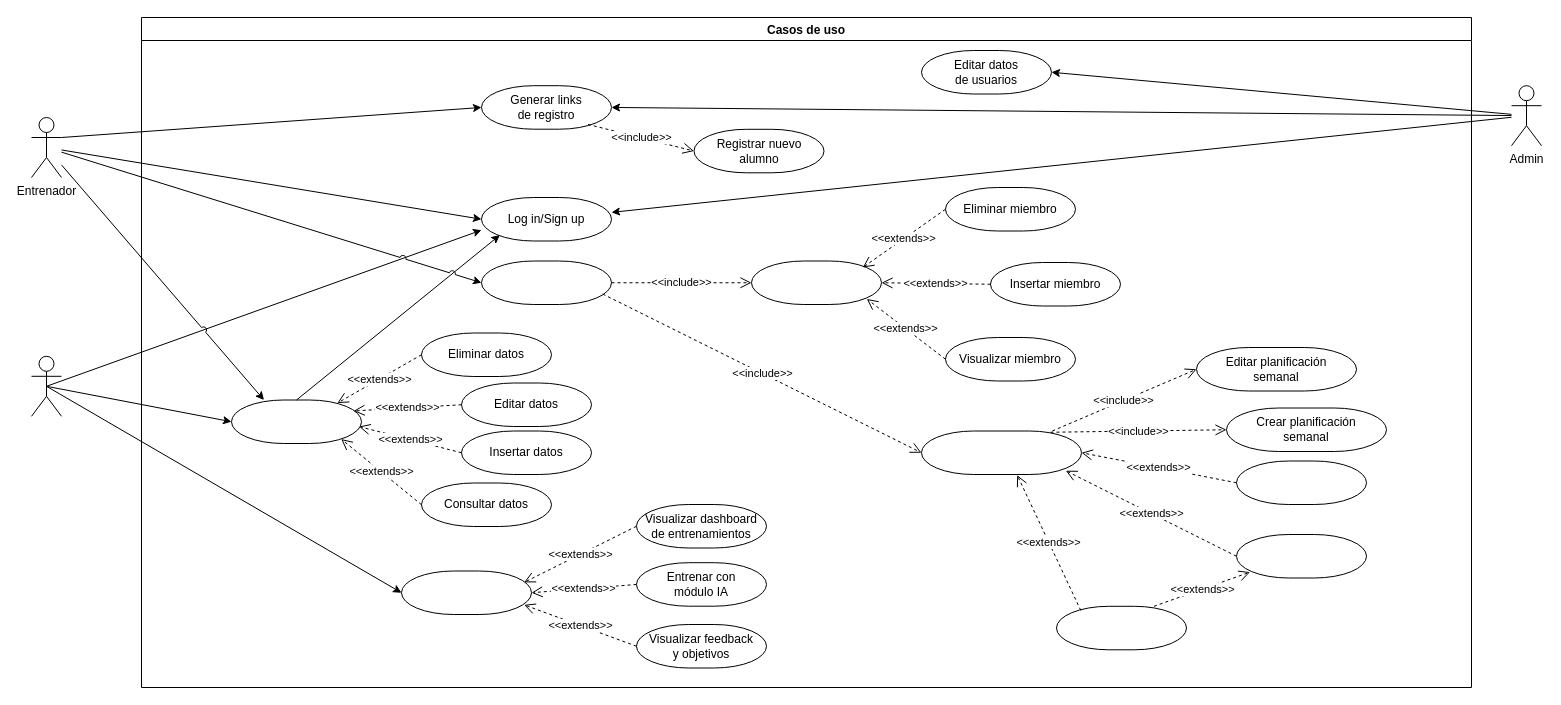
Image size: 1561x705. Some labels were removed from this diagram. Here are the shapes that lost their labels. From the top down, the box of each, then its label:
(480, 260, 612, 304): Crear grupo de entrenamiento
(750, 260, 882, 304): Gestionar miembros de grupos
(30, 355, 62, 416): Esgrimista
(230, 399, 362, 444): Gestionar datos de perfil
(920, 430, 1082, 474): Gestionar ciclos y planes de entrenamiento
(1236, 460, 1366, 504): Generar objetivos
(1236, 534, 1366, 578): Visualizar entrenamientos de esgrimista
(400, 570, 532, 614): Visualizar planificación de entrenamiento
(1056, 605, 1186, 650): Generar feedback
